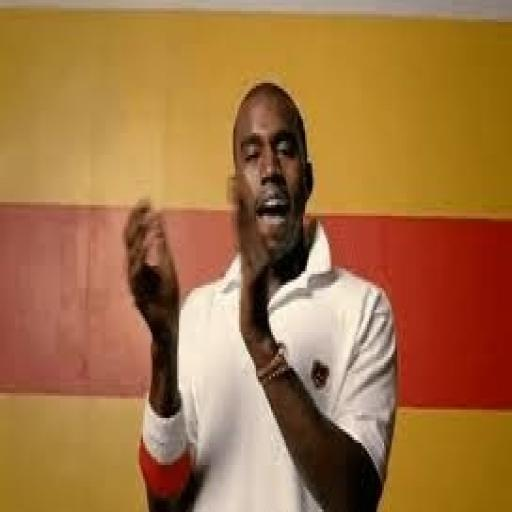clapping: (122, 78, 401, 509)
